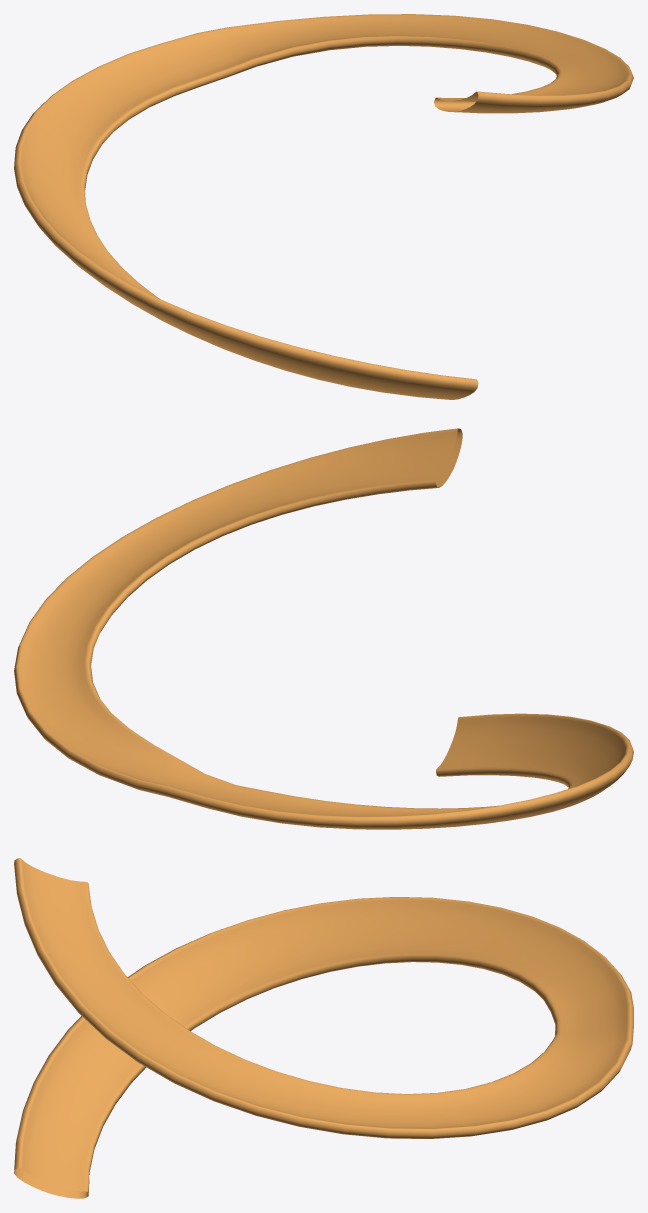
File: middle.fbx
The picture shows the model from 3 angles, top to bottom: view 1: azimuth 30°, elevation 25°; view 2: azimuth 150°, elevation 25°; view 3: azimuth 270°, elevation 25°; orthographic projection. The views are drawn at different scales.
Visible parts, largest first — view 1: middle part.002; view 2: middle part.002; view 3: middle part.002.
Part boxes in pixels (x1=…): middle part.002: x1=14, y1=14, x2=633, y2=399; middle part.002: x1=14, y1=428, x2=633, y2=829; middle part.002: x1=14, y1=858, x2=633, y2=1198.
Size of the model in its own units: 3621 by 2051 by 3324.
